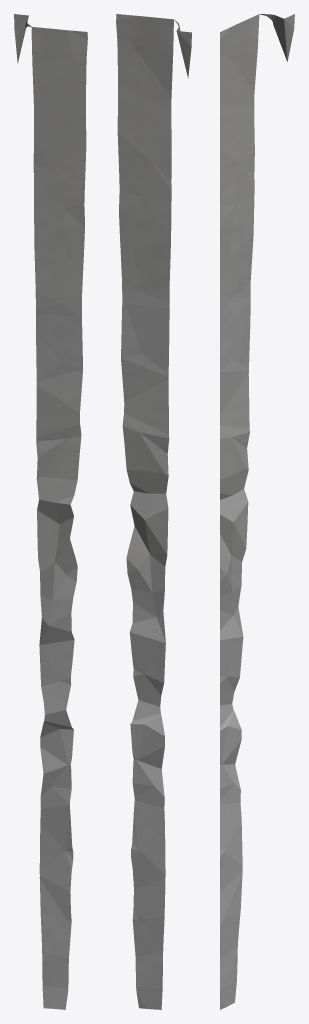
3 renders of one model, left to right at view 1: azimuth 30°, elevation 25°; view 2: azimuth 210°, elevation 25°; view 3: azimuth 270°, elevation 25°, orthographic. The views are drawn at different scales.
Size of the model in its own units: 0.0667 by 1.67 by 0.115.
1 material, 1 textured.
